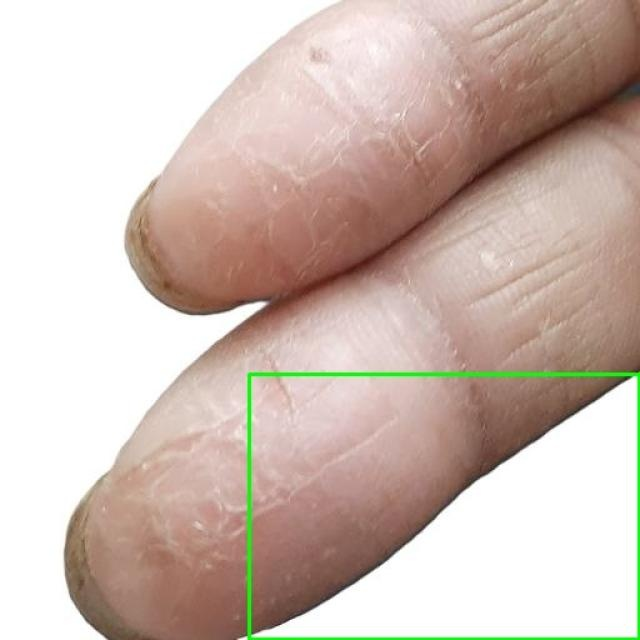Contact Dermatitis: (249, 374, 639, 639)
